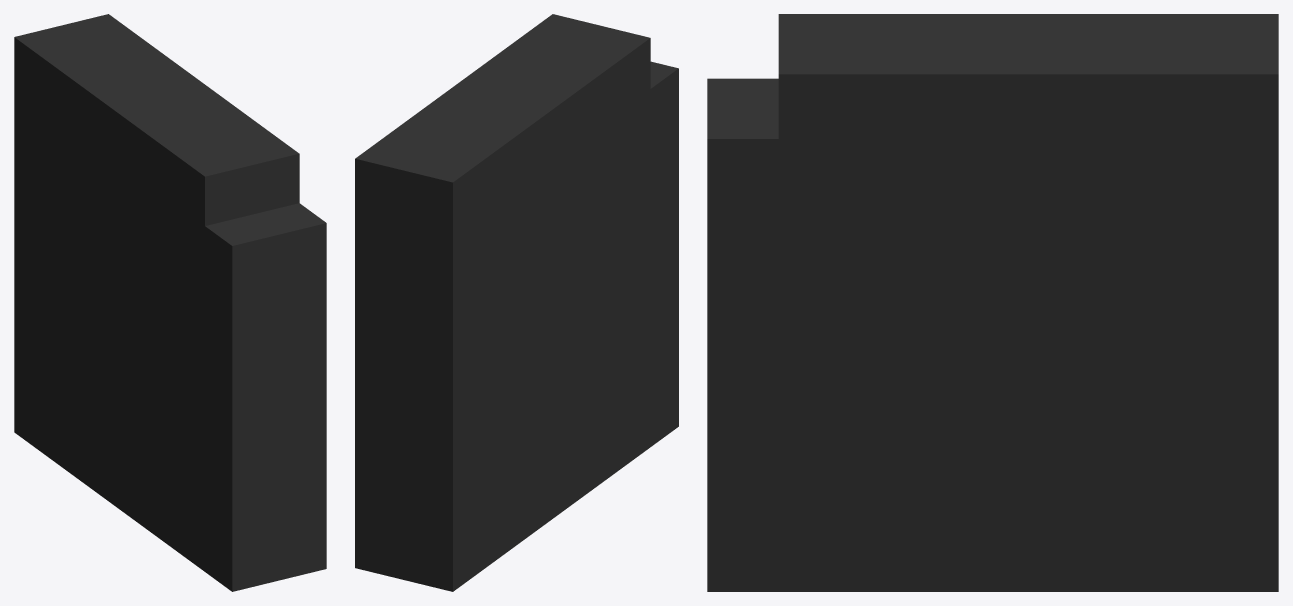
The model's file is ButtonAngle.obj.
3 renders of one model, left to right at view 1: azimuth 30°, elevation 25°; view 2: azimuth 150°, elevation 25°; view 3: azimuth 270°, elevation 25°, orthographic. The views are drawn at different scales.
Bounding box in the file's own units: 0.2 × 0.8 × 0.8.
Materials: 1 (1 with a texture image).
